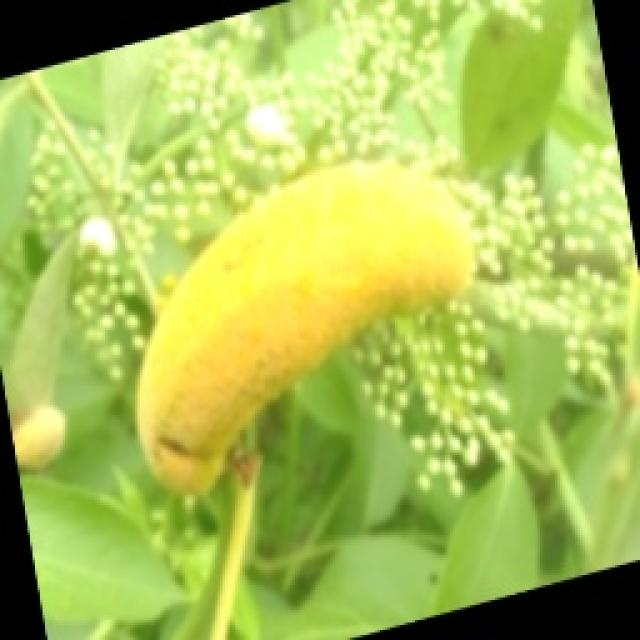Elderberry_rust: (132, 155, 480, 497)
